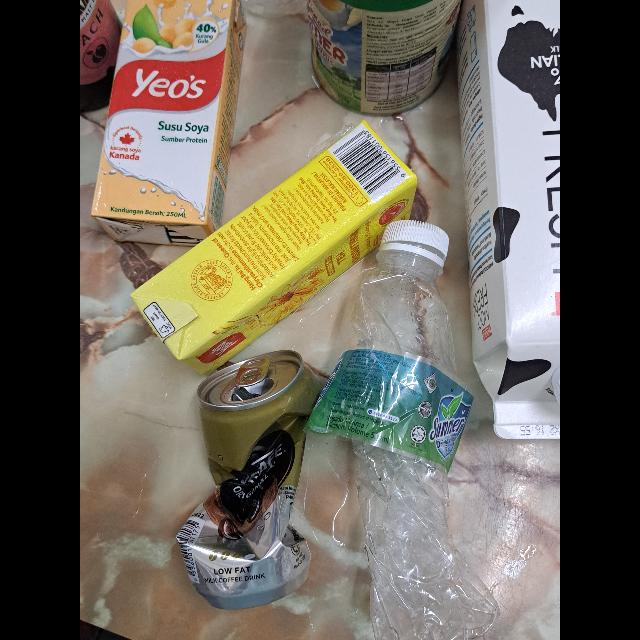aba de lata: (235, 356, 271, 386)
caixinha: (128, 121, 418, 372), (460, 1, 560, 443), (90, 1, 246, 246)
garrafa plástica: (308, 252, 498, 640)
lata: (176, 349, 332, 609), (308, 0, 462, 114)
tampa plástica: (380, 220, 450, 262)
